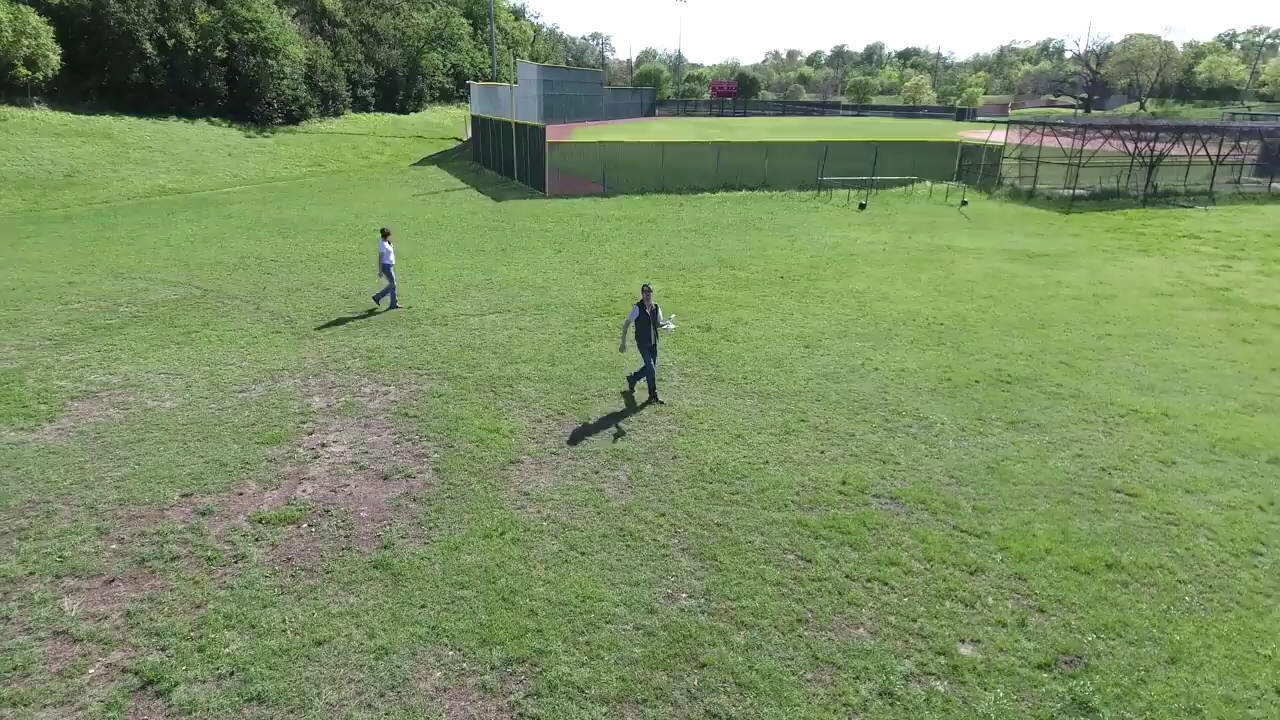insan: (618, 281, 671, 408), (371, 227, 406, 308)
